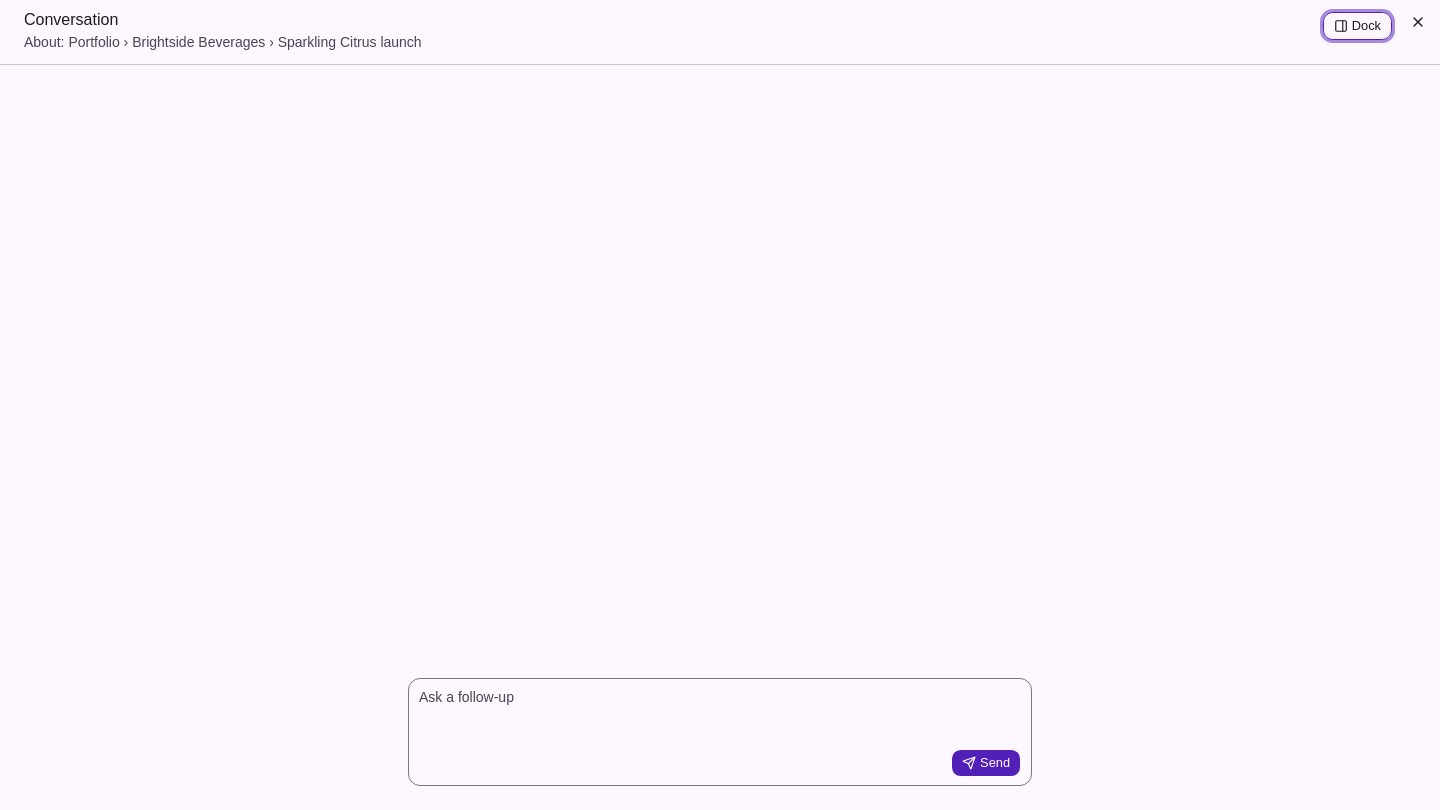
Test: a conversation started on Sparkling Citrus keeps answering about Mei after leaving
Earlier steps of the test are not shown.
(page scrolled)
Expected: the text "About:" reads "About: Portfolio › Brightside Beverages › Sparkling Citrus launch", [24,34,422,50]
Type "How does this compare with her last three?" into the text box named "Message" at (720, 711), box [409,679,1031,743]
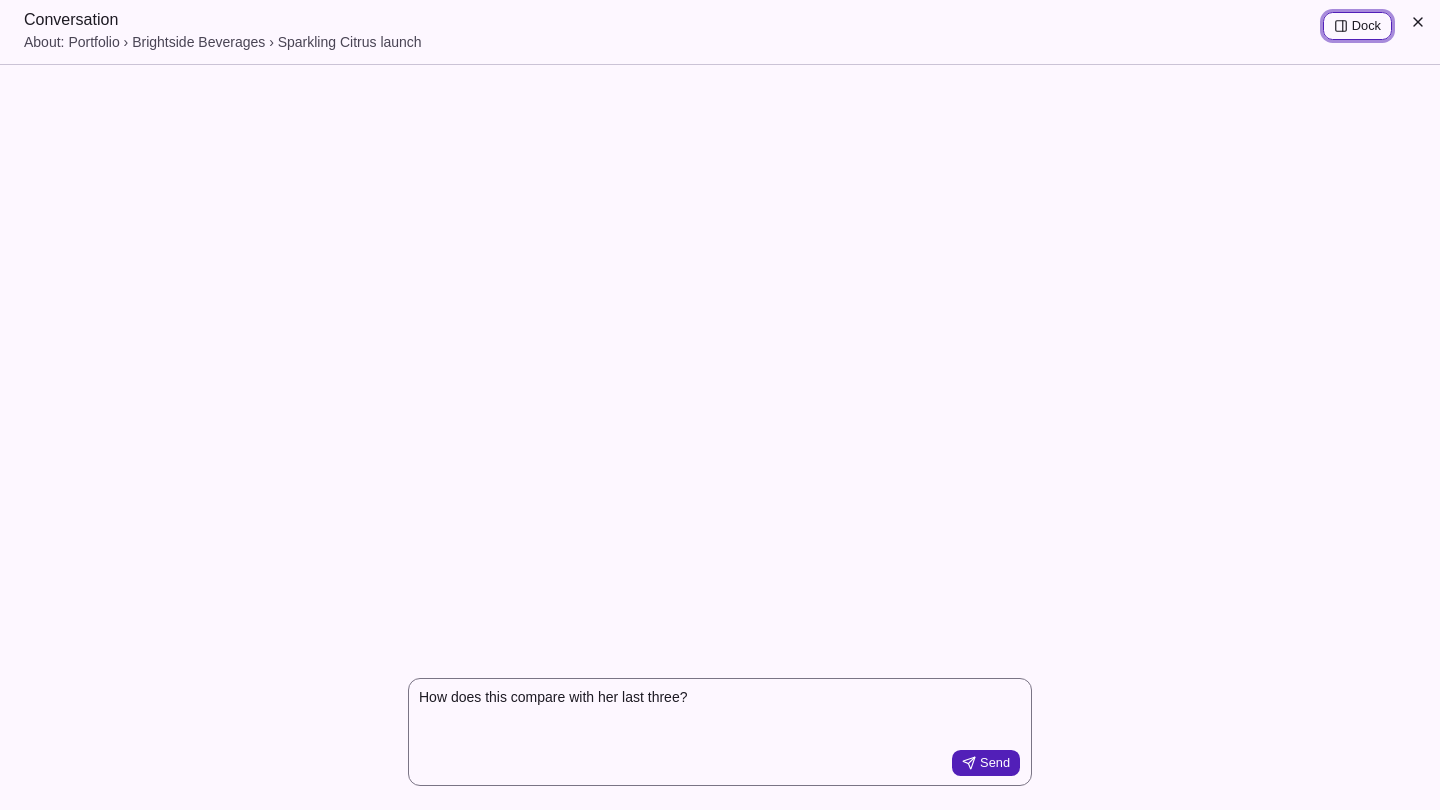
Click the button "Send" at (986, 763), box [951,749,1021,777]
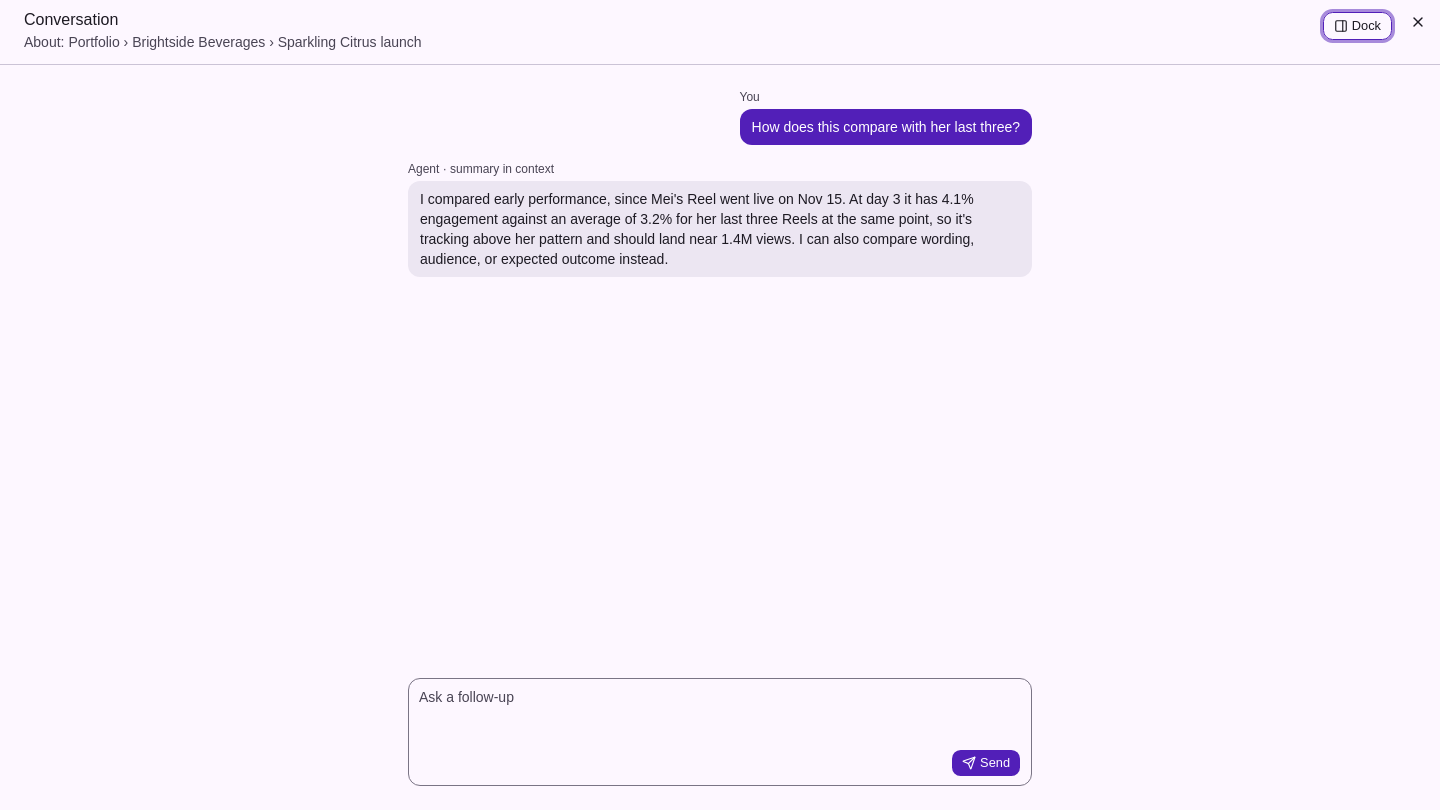
Now the dialog "Conversation" shows "compared early performance", box [420,191,974,267]
